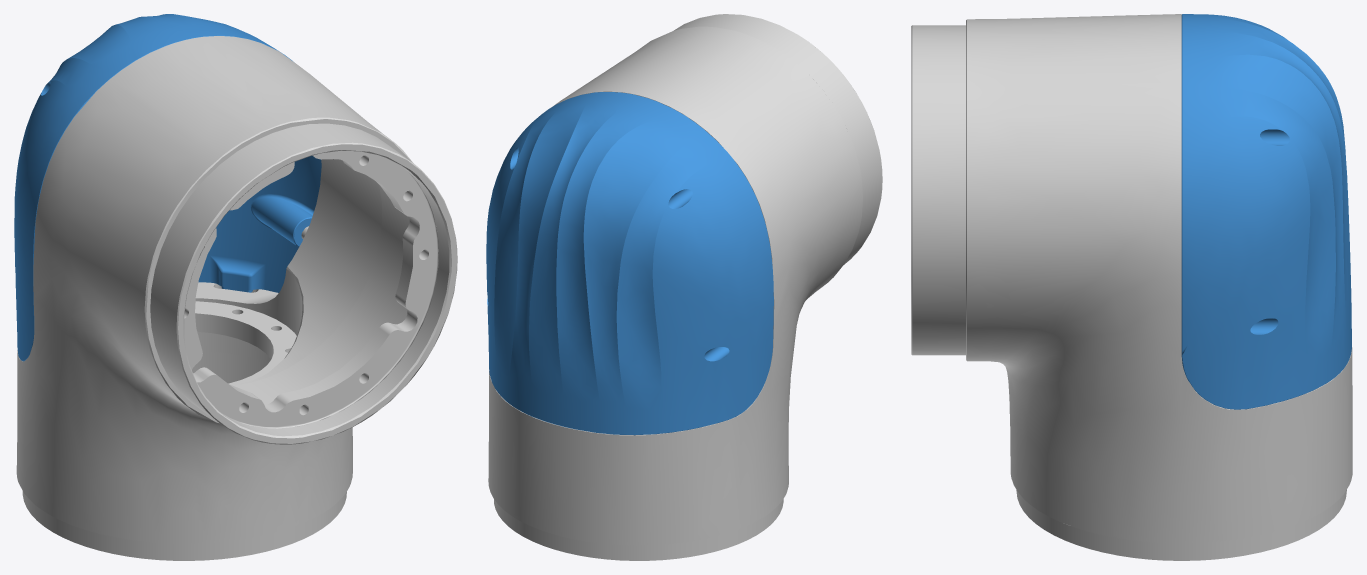
3 views of the same model, side by side, from view 1: azimuth 30°, elevation 25°; view 2: azimuth 150°, elevation 25°; view 3: azimuth 270°, elevation 25° (orthographic). The views are drawn at different scales.
Bounding box in the file's own units: 104 × 148 × 129.
